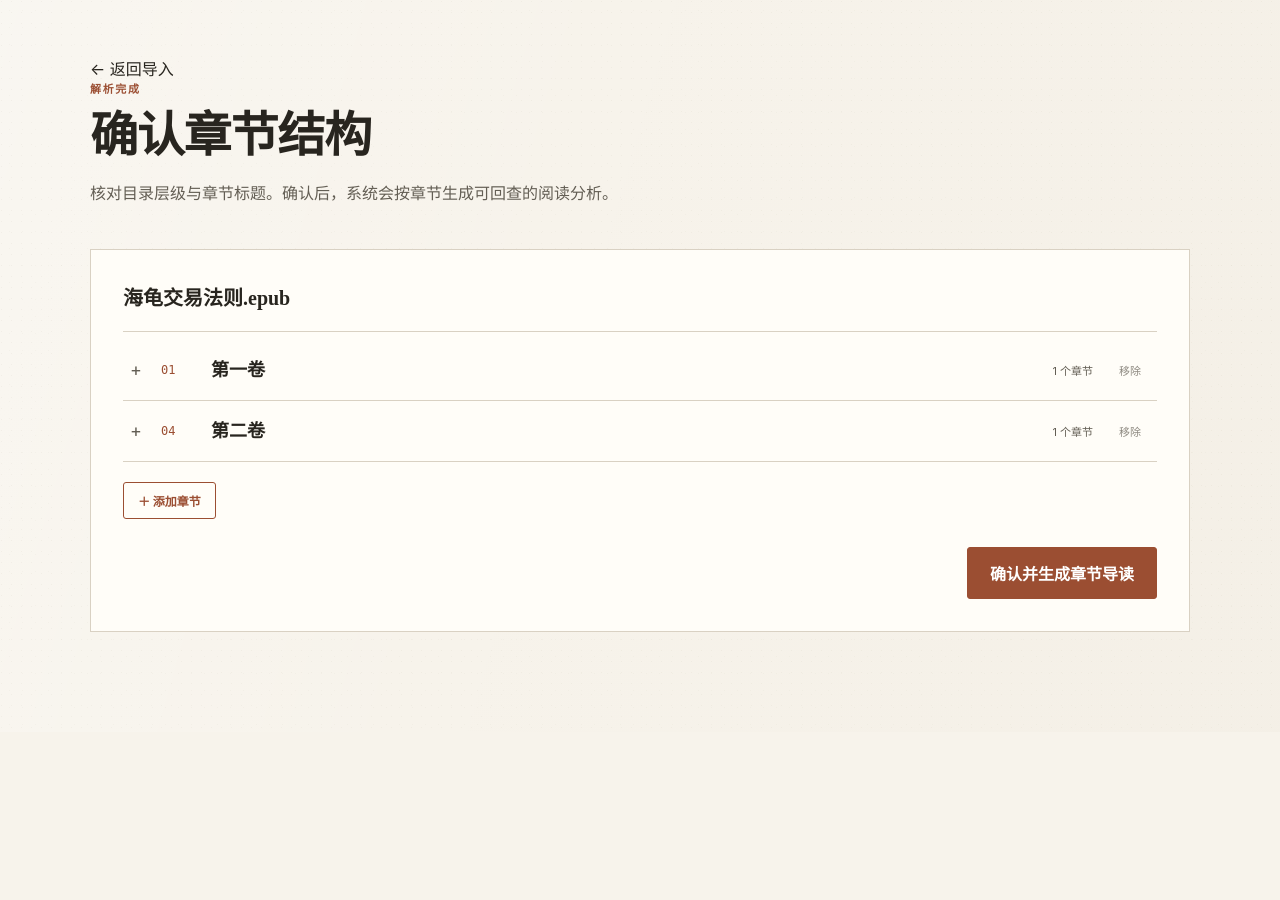
ChapterEditor hierarchy › removes only the selected same-titled section
This screenshot has width=1280, height=900.
Click the button named "展开「第一卷」的章节" at (136, 370), box x1=123 y1=357 x2=149 y2=383
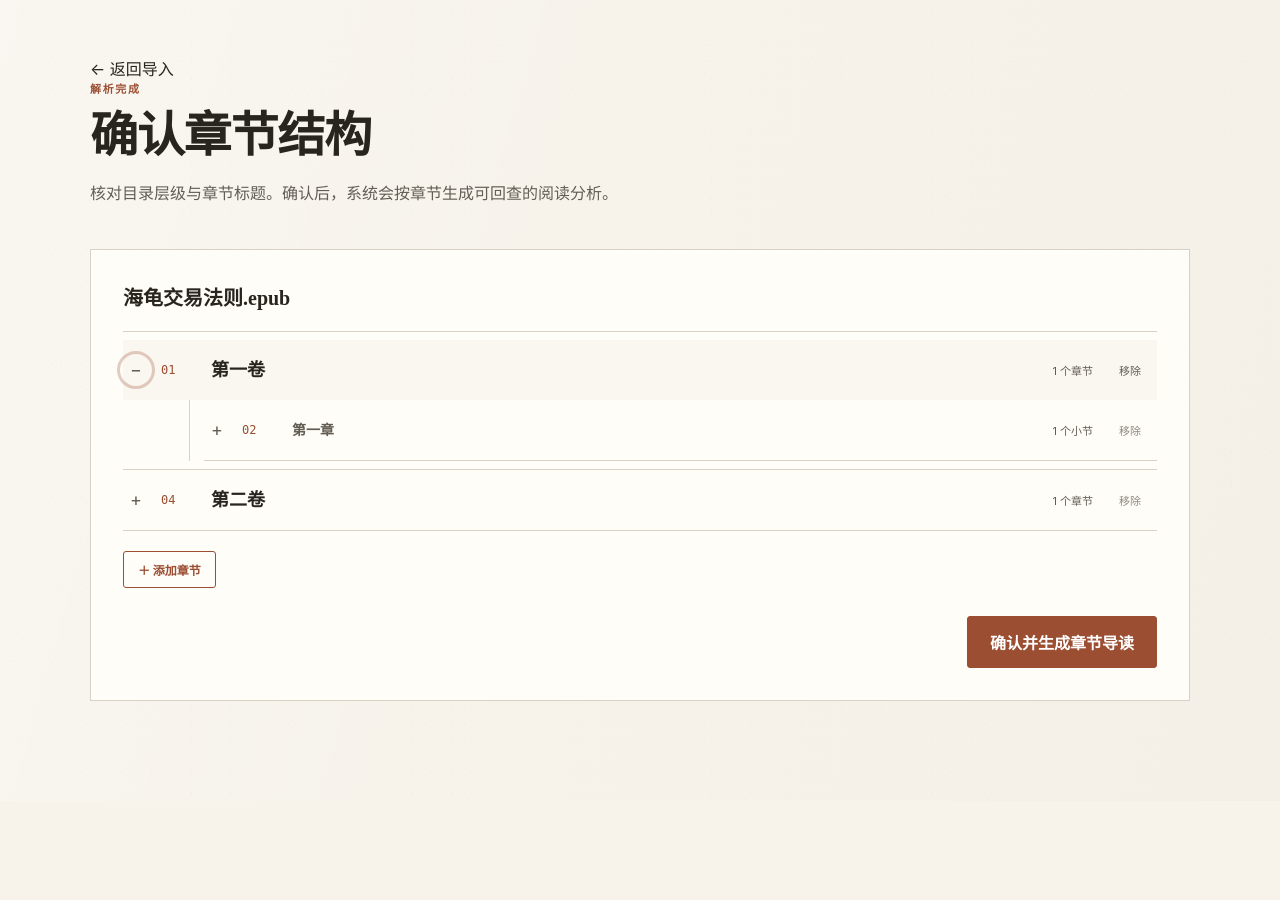
Click the button named "展开「第一章」的小节" at (217, 430), box x1=204 y1=417 x2=230 y2=443
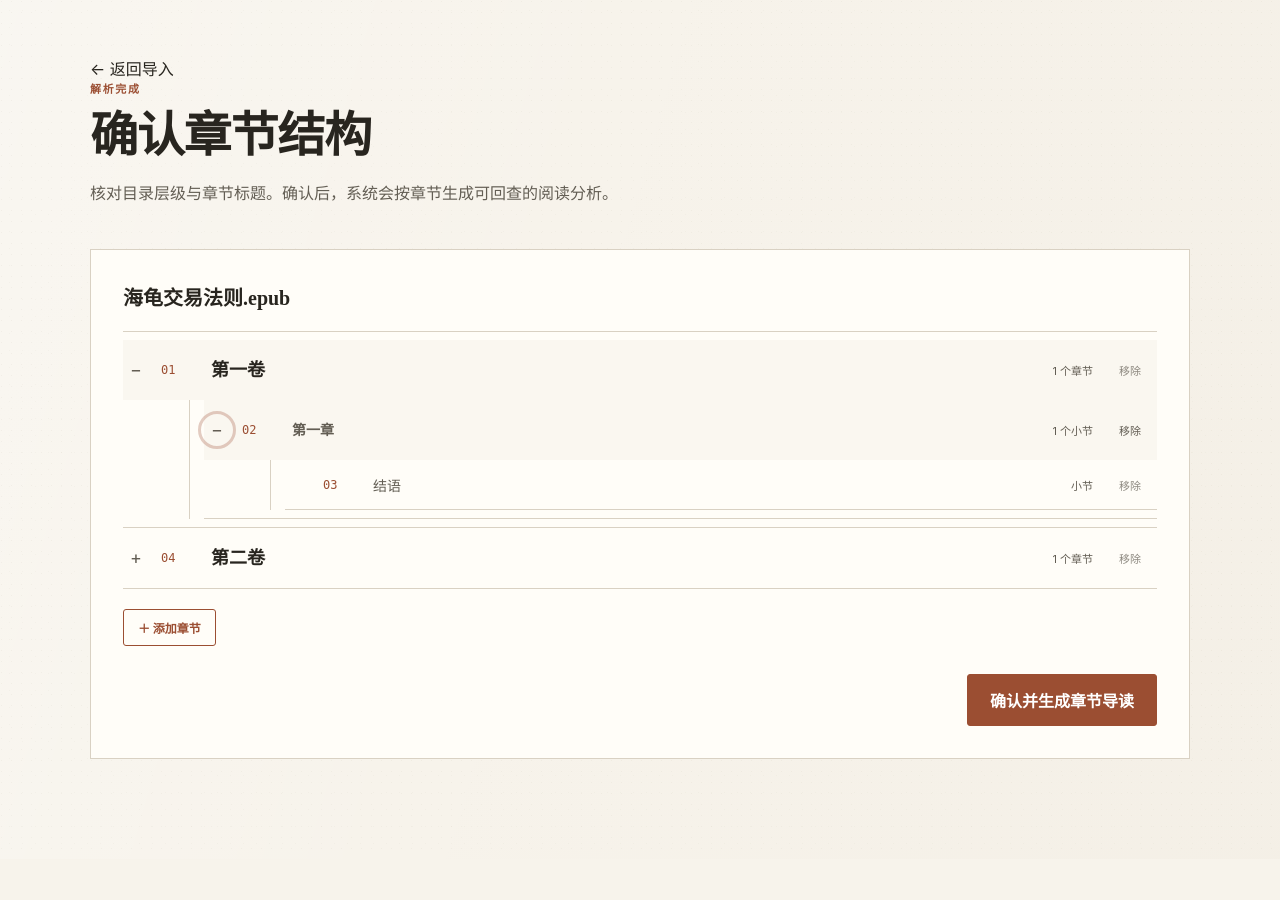
Click the button with aria-label "移除「结语」" at (1130, 484), box x1=1103 y1=468 x2=1157 y2=500
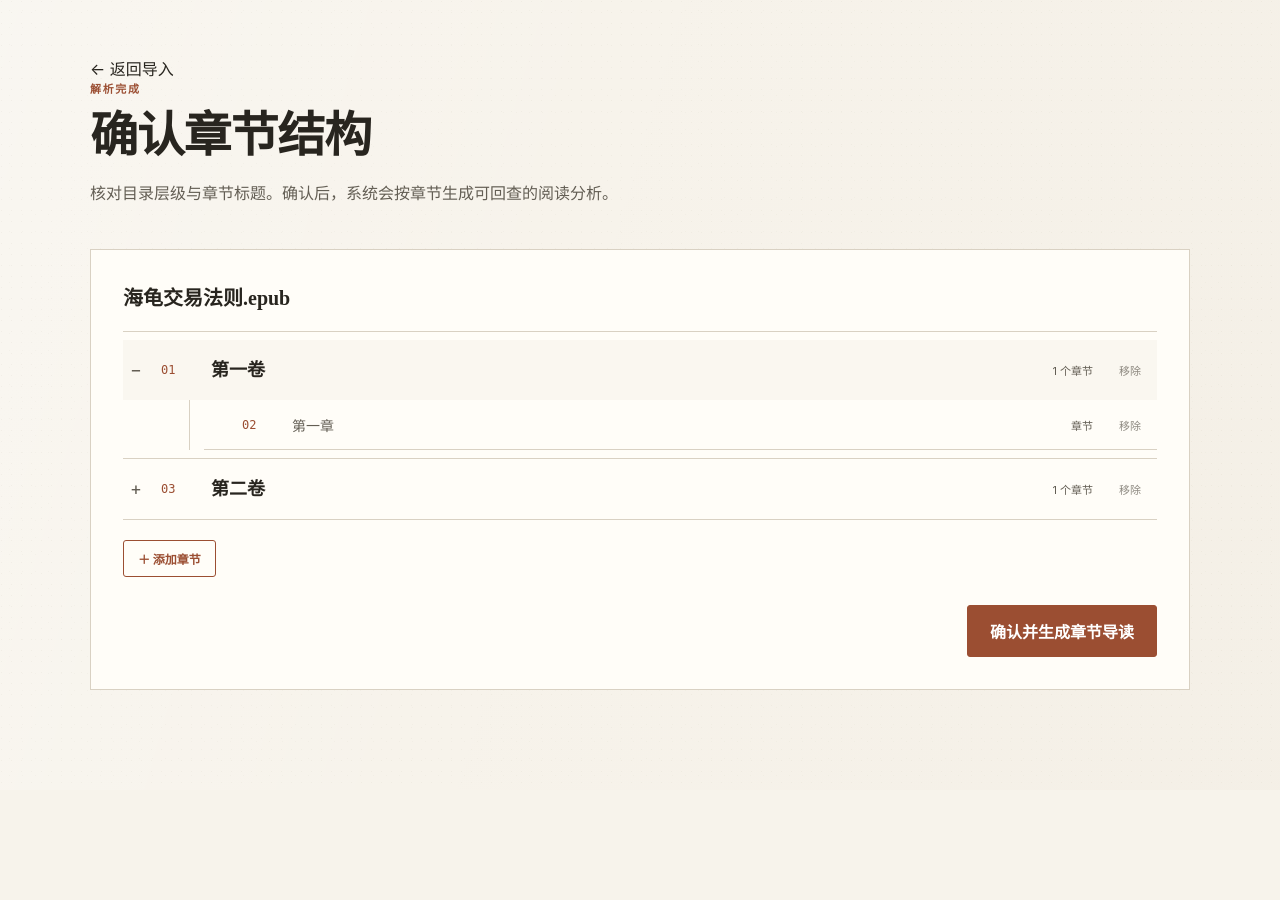
Click the button named "展开「第二卷」的章节" at (136, 489), box x1=123 y1=476 x2=149 y2=502
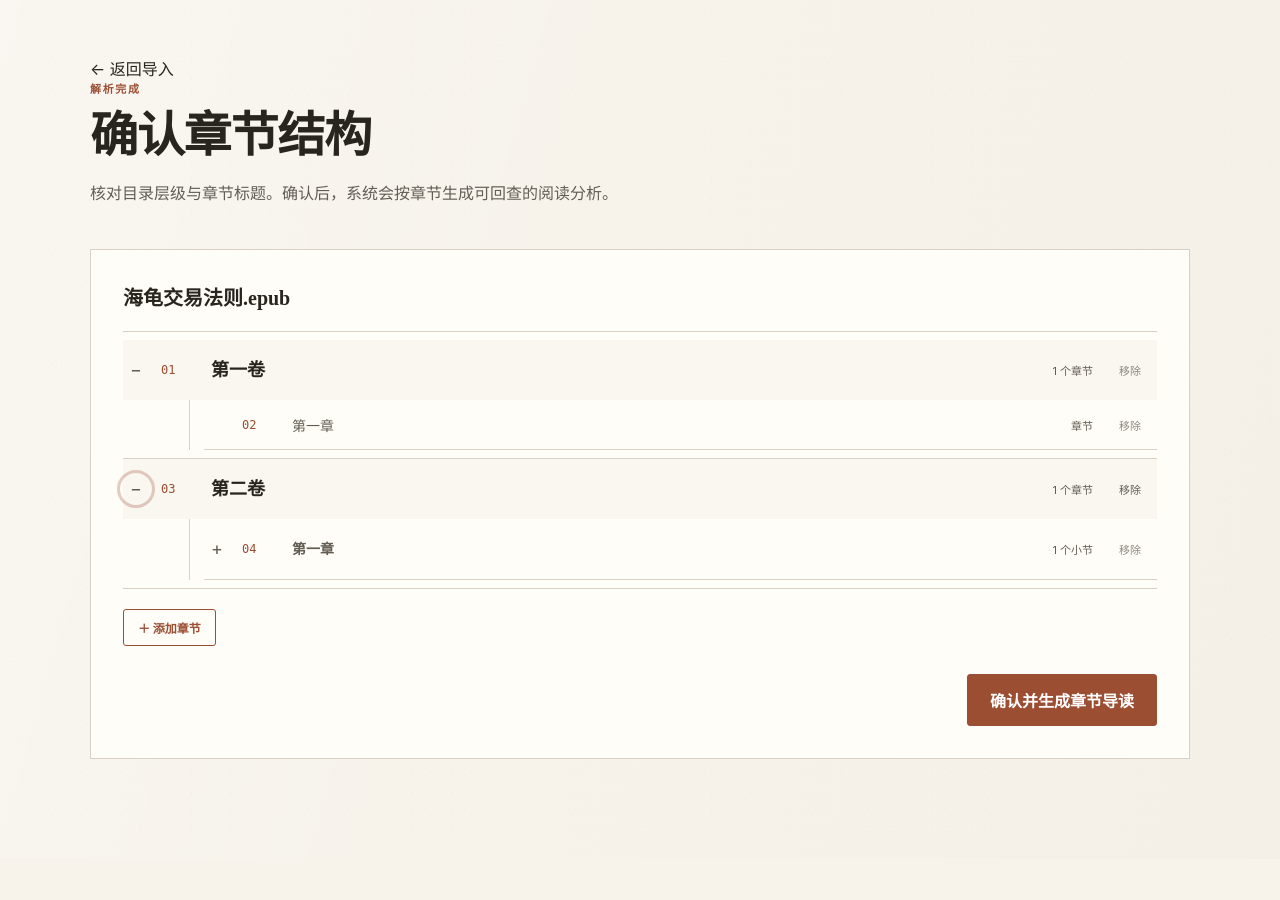
Click the button named "展开「第一章」的小节" at (217, 549), box x1=204 y1=536 x2=230 y2=562
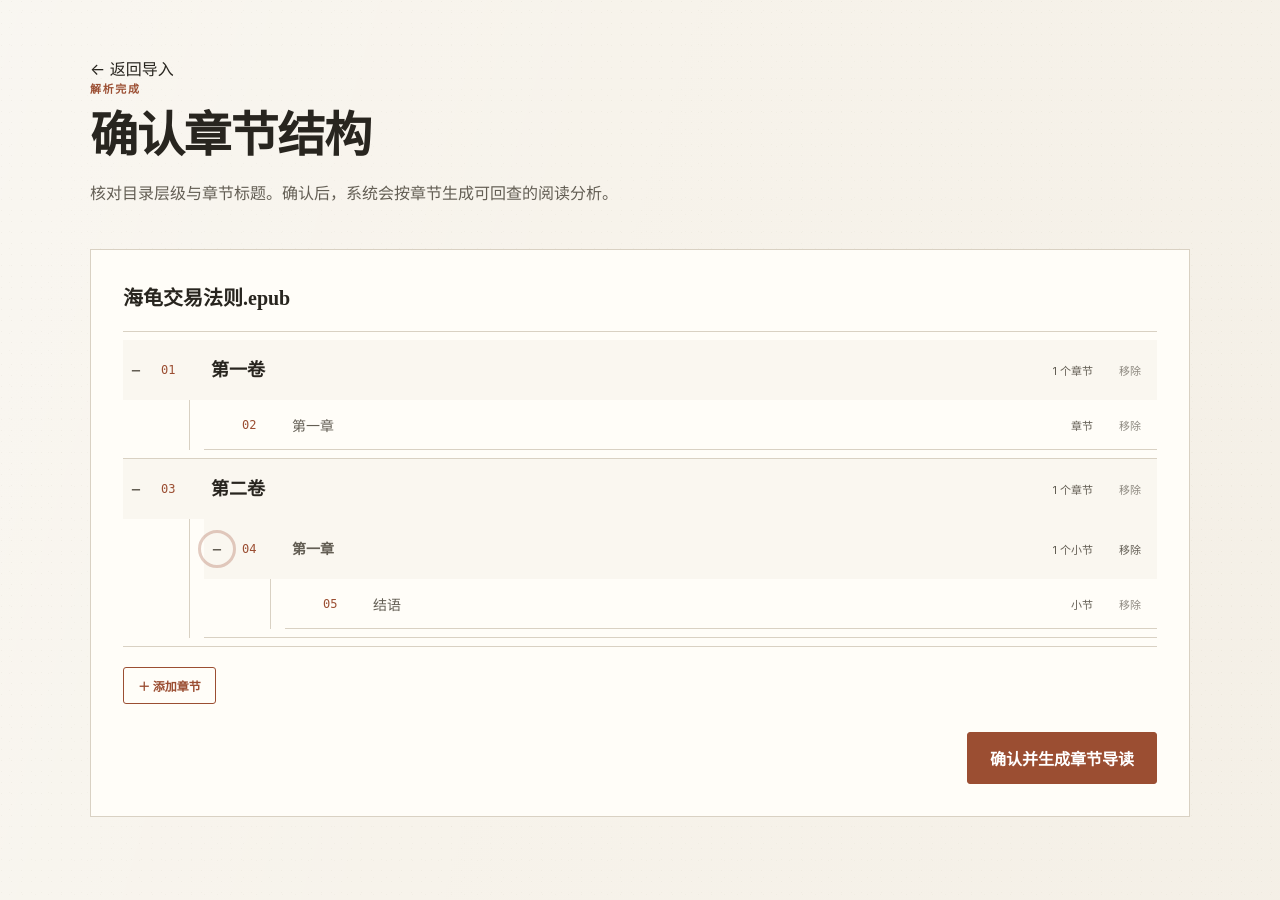
Result: the field showing "结语" next to "05" is shown at x1=371 y1=588 x2=1001 y2=620
